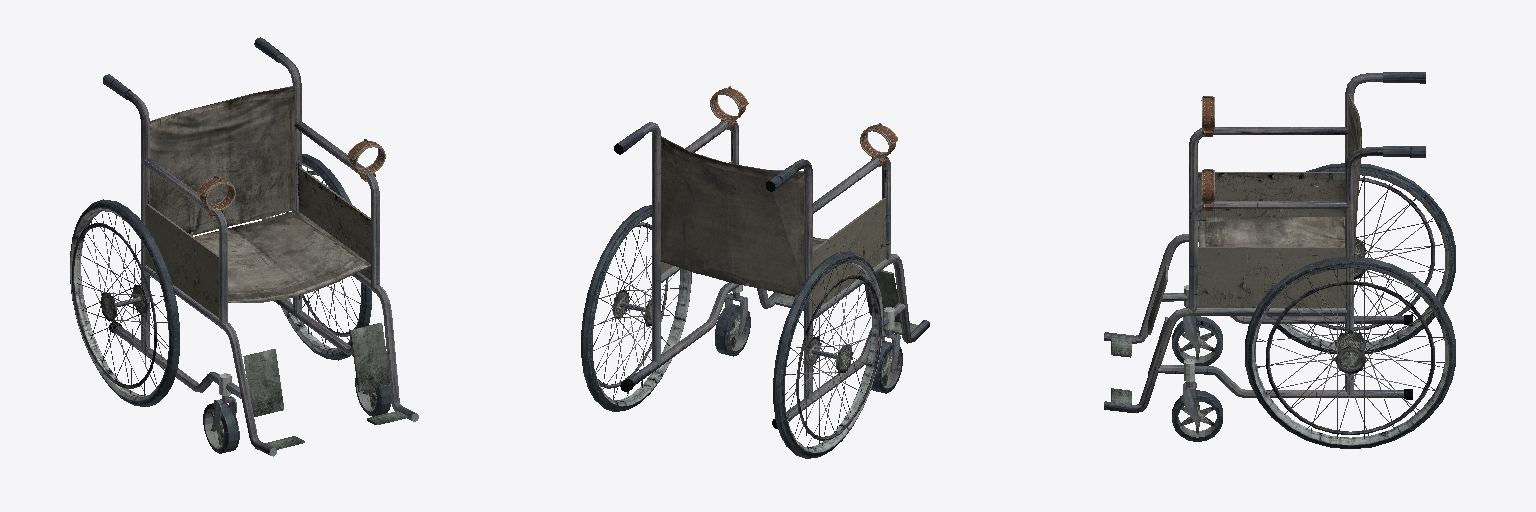
3 views of the same model, side by side, from view 1: azimuth 30°, elevation 25°; view 2: azimuth 150°, elevation 25°; view 3: azimuth 270°, elevation 25° (orthographic).
Visible parts, largest first — view 1: SMDImport; view 2: SMDImport; view 3: SMDImport.
Part boxes in pixels (x1,y1,x2,y2): SMDImport: (70,37,418,456); SMDImport: (581,86,929,458); SMDImport: (1104,72,1455,448).
Size of the model in its own units: 30.13 by 37.47 by 40.93.
6 materials, 3 textured.